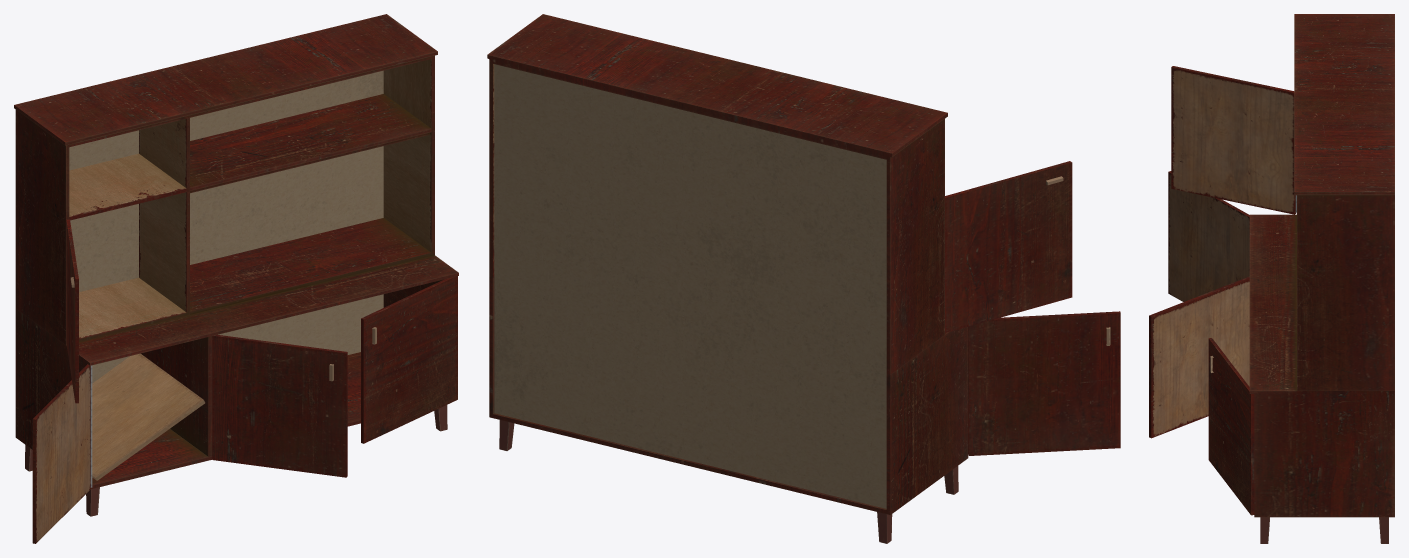
The model's file is wardrobe.fbx.
3 views of the same model, side by side, from view 1: azimuth 30°, elevation 25°; view 2: azimuth 150°, elevation 25°; view 3: azimuth 270°, elevation 25° (orthographic). The views are drawn at different scales.
Parts seen in each view (by area): view 1: wardrobe, door3, door, shelf, door2, door4; view 2: wardrobe, door2, door4; view 3: wardrobe, door4, door3, door2, door.
Part boxes in pixels (x1,y1,x2,y2): wardrobe: (14, 14, 458, 516); door3: (212, 334, 347, 477); door: (361, 276, 457, 443); shelf: (92, 353, 205, 480); door2: (32, 364, 90, 543); door4: (66, 219, 78, 403); wardrobe: (487, 14, 968, 543); door2: (968, 311, 1120, 455); door4: (945, 161, 1072, 332); wardrobe: (1249, 14, 1394, 543); door4: (1171, 66, 1296, 214); door3: (1149, 276, 1249, 438); door2: (1168, 171, 1249, 301); door: (1208, 338, 1254, 515).
Bounding box in the file's own units: 991 × 734 × 460.
